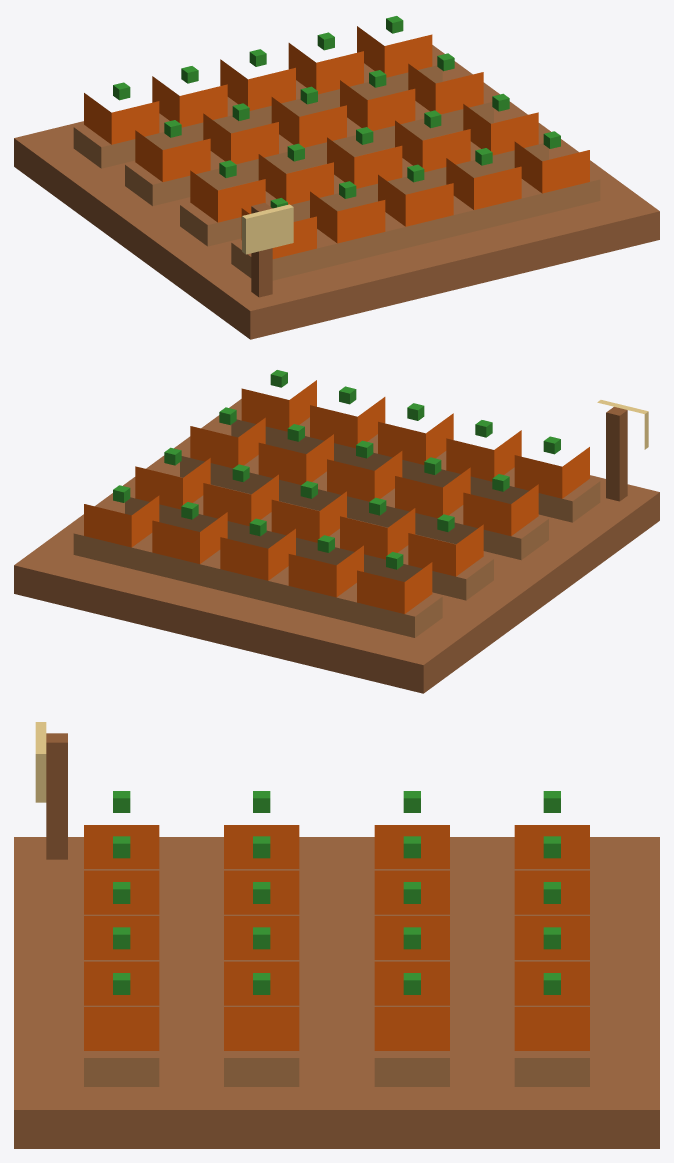
File: field_t1_v3.glb
3 renders of one model, top to bottom at view 1: azimuth 30°, elevation 25°; view 2: azimuth 150°, elevation 25°; view 3: azimuth 270°, elevation 25°, orthographic. The views are drawn at different scales.
Visible parts, largest first — view 1: field_t1_v3; view 2: field_t1_v3; view 3: field_t1_v3.
Part boxes in pixels (x1,y1,x2,y2): field_t1_v3: [14, 16, 659, 339]; field_t1_v3: [14, 370, 659, 693]; field_t1_v3: [14, 722, 659, 1148].
Bounding box in the file's own units: 0.6 × 0.16 × 0.6.
Materials: 1 (1 with a texture image).
